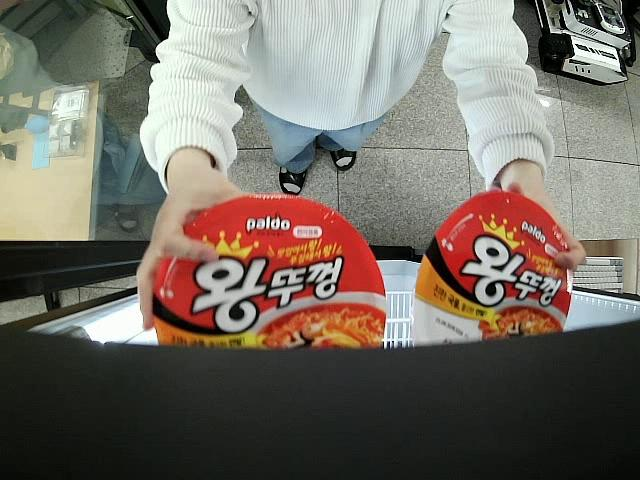00_hand: (136, 167, 257, 330)
10_wangTtukkeong: (152, 195, 389, 351), (415, 189, 574, 349)
